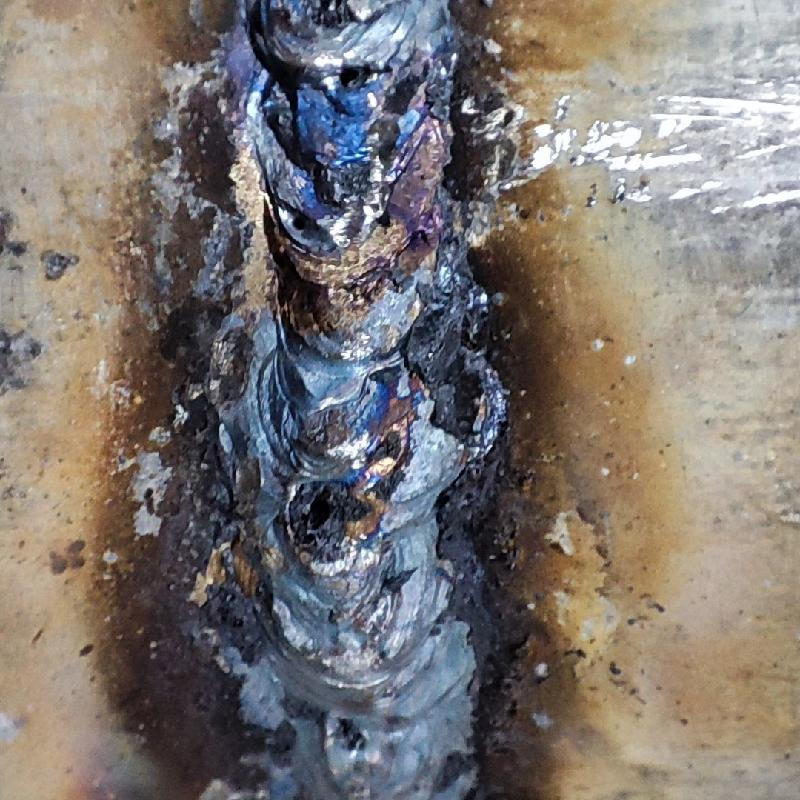Surface_pores: (284, 475, 367, 544), (318, 48, 378, 103), (360, 201, 406, 240), (282, 206, 324, 245)
